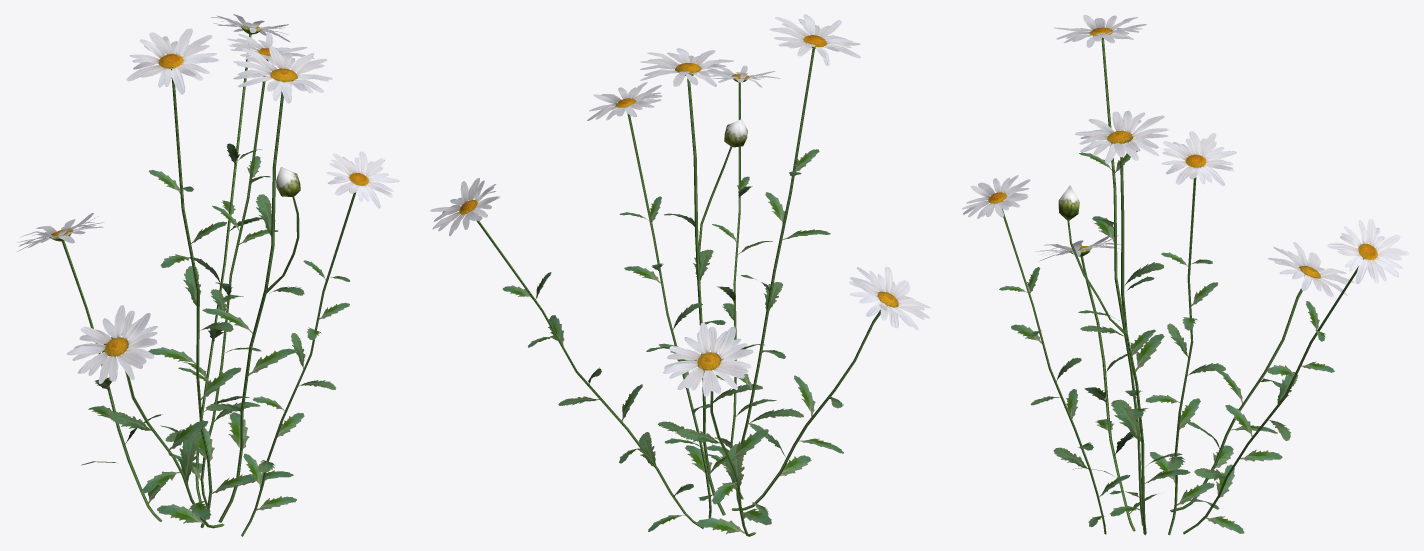
File: Daisy-group1.fbx
3 renders of one model, left to right at view 1: azimuth 30°, elevation 25°; view 2: azimuth 150°, elevation 25°; view 3: azimuth 270°, elevation 25°, orthographic. The views are drawn at different scales.
Parts seen in each view (by area): view 1: Daisy-group1_LOD0; view 2: Daisy-group1_LOD0; view 3: Daisy-group1_LOD0.
Boxes of the visible parts, x1,y1,x2,y2 form: Daisy-group1_LOD0: [17, 14, 399, 536]; Daisy-group1_LOD0: [430, 14, 930, 536]; Daisy-group1_LOD0: [962, 14, 1409, 535].
Size of what is drawn, in the model's own units: 78.91 by 106 by 89.02.
